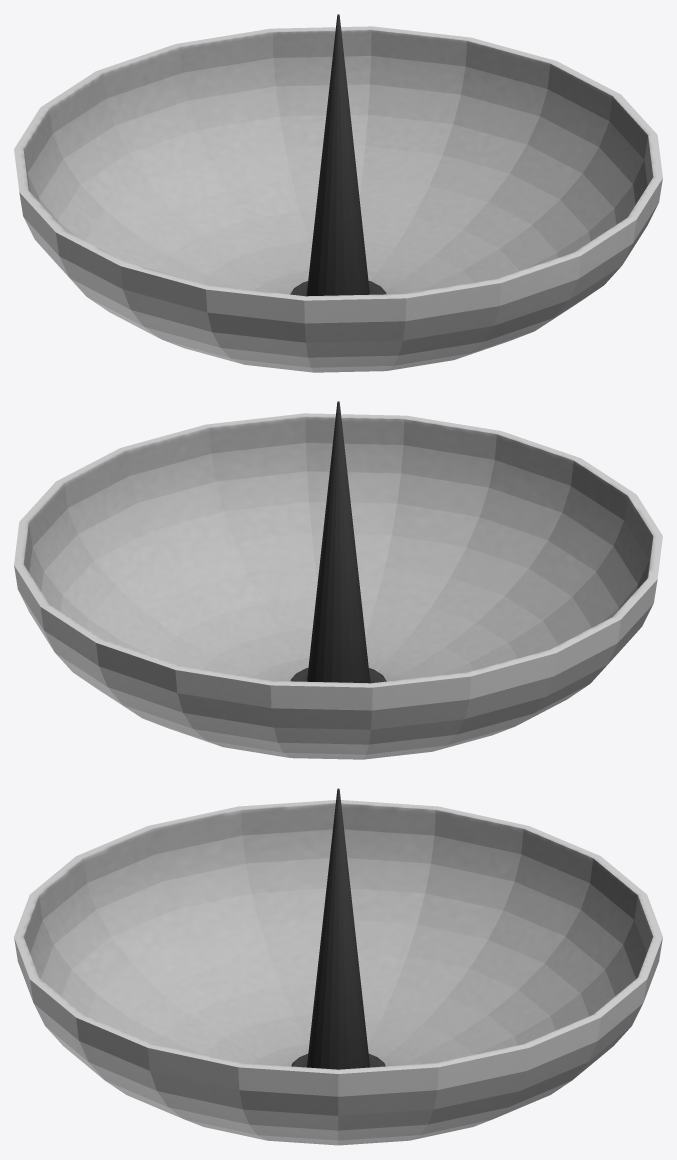
The model's file is SatelliteDish.fbx.
The picture shows the model from 3 angles, top to bottom: view 1: azimuth 30°, elevation 25°; view 2: azimuth 150°, elevation 25°; view 3: azimuth 270°, elevation 25°; orthographic projection.
Visible parts, largest first — view 1: polySurface2; view 2: polySurface2; view 3: polySurface2.
Boxes of the visible parts, x1=… form: polySurface2: x1=14, y1=14, x2=662, y2=372; polySurface2: x1=14, y1=401, x2=662, y2=759; polySurface2: x1=14, y1=788, x2=662, y2=1145.
Bounding box in the file's own units: 3.99 × 2.06 × 3.99.
